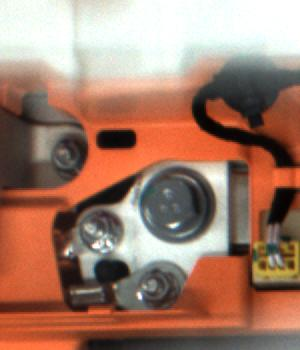nut_b: (130, 169, 226, 247)
